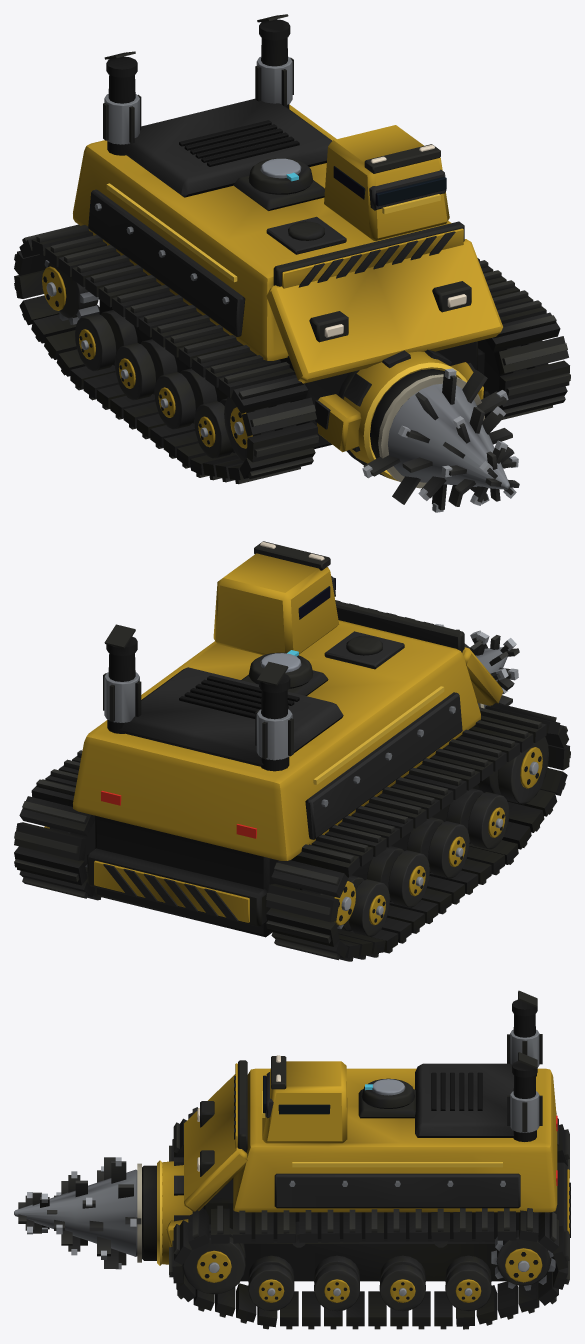
File: ex_crawler_1.glb
The picture shows the model from 3 angles, top to bottom: view 1: azimuth 30°, elevation 25°; view 2: azimuth 150°, elevation 25°; view 3: azimuth 270°, elevation 25°; orthographic projection. The views are drawn at different scales.
Parts seen in each view (by area): view 1: body, drill, wheel_8, wheel_9, wheel_10, wheel_6, wheel_11, wheel_7, wheel_1; view 2: body, wheel_9, wheel_10, wheel_11, wheel_7, wheel_8, drill, wheel_6; view 3: body, drill, wheel_1, wheel_0, wheel_2, wheel_5, wheel_3, wheel_4.
Boxes of the visible parts, left/top/right/bottom form: body: left=14, top=14, right=570, bottom=484; drill: left=362, top=368, right=519, bottom=512; wheel_8: left=75, top=310, right=137, bottom=371; wheel_9: left=114, top=339, right=177, bottom=400; wheel_10: left=154, top=368, right=217, bottom=429; wheel_6: left=42, top=260, right=99, bottom=324; wheel_11: left=194, top=398, right=235, bottom=458; wheel_7: left=224, top=397, right=296, bottom=461; wheel_1: left=478, top=339, right=548, bottom=394; body: left=14, top=541, right=570, bottom=961; wheel_9: left=367, top=846, right=429, bottom=907; wheel_10: left=406, top=817, right=469, bottom=878; wheel_11: left=446, top=788, right=509, bottom=849; wheel_7: left=478, top=737, right=548, bottom=804; wheel_8: left=339, top=875, right=389, bottom=936; drill: left=435, top=624, right=519, bottom=708; wheel_6: left=302, top=877, right=355, bottom=929; body: left=157, top=990, right=570, bottom=1329; drill: left=14, top=1157, right=156, bottom=1269; wheel_1: left=182, top=1224, right=245, bottom=1294; wheel_0: left=491, top=1230, right=555, bottom=1290; wheel_2: left=445, top=1255, right=491, bottom=1311; wheel_5: left=248, top=1255, right=294, bottom=1311; wheel_3: left=379, top=1255, right=425, bottom=1311; wheel_4: left=314, top=1255, right=359, bottom=1311.
Bounding box in the file's own units: 4.9 × 4.39 × 9.04.
